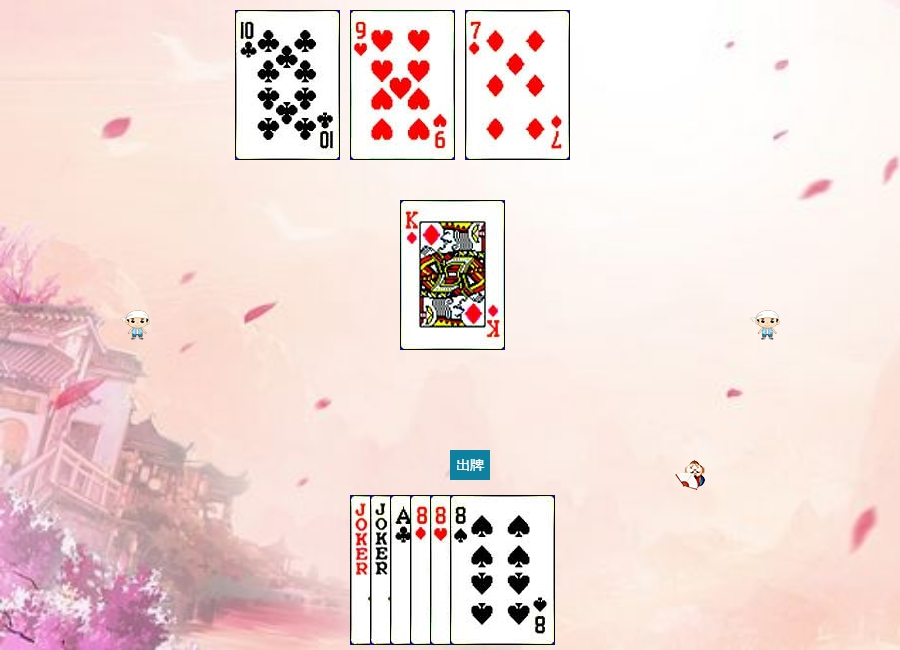10~2: (235, 10, 340, 160)
13~1: (400, 200, 505, 350)
14~2: (390, 495, 495, 645)
17~3: (370, 495, 475, 645)
18~4: (350, 495, 455, 645)
7~1: (465, 10, 570, 160)
8~1: (410, 495, 515, 645)
8~3: (430, 495, 535, 645)
8~4: (450, 495, 555, 645)
9~3: (350, 10, 455, 160)
